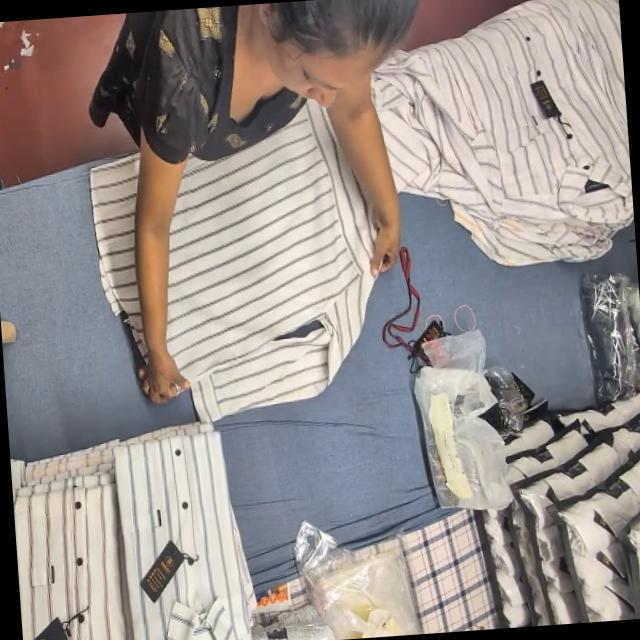new-garment: (167, 104, 372, 418), (89, 155, 139, 342)
